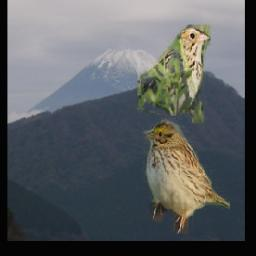Sparrow: (141, 119, 230, 234), (138, 25, 211, 124)
